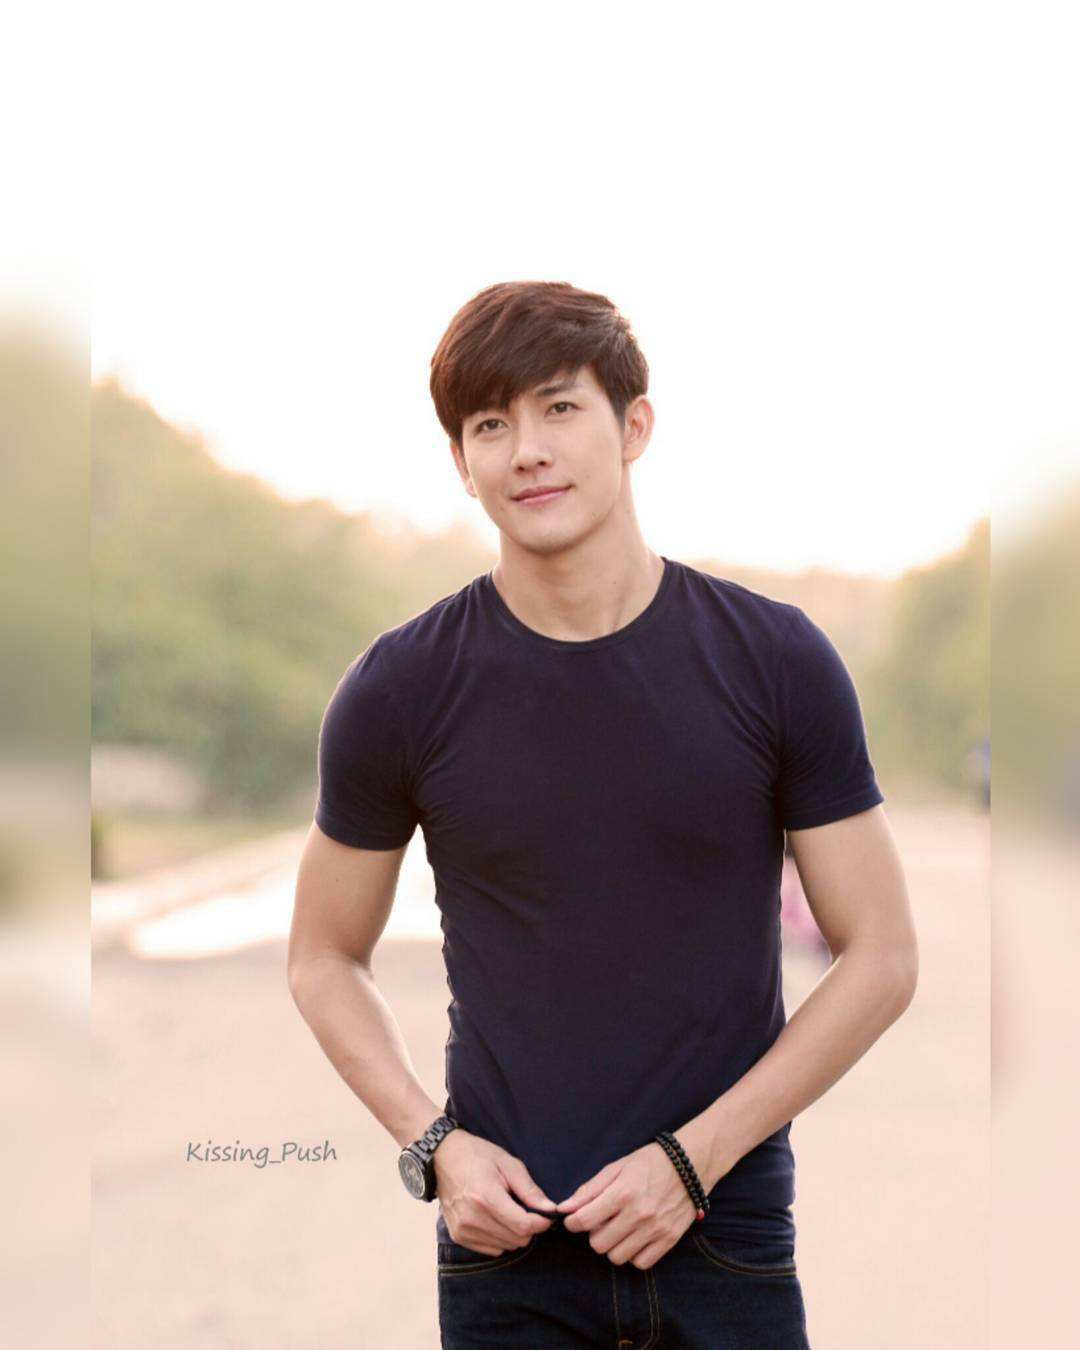person: (252, 267, 865, 1348)
